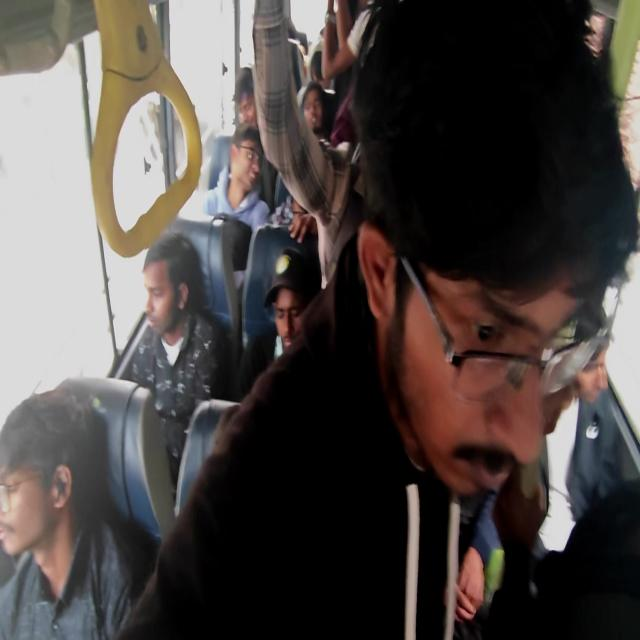person: (372, 53, 628, 607), (0, 364, 109, 550), (228, 132, 294, 233), (278, 296, 327, 366), (161, 231, 204, 308), (299, 92, 339, 158), (234, 68, 266, 150), (312, 29, 336, 76), (291, 198, 316, 243)
